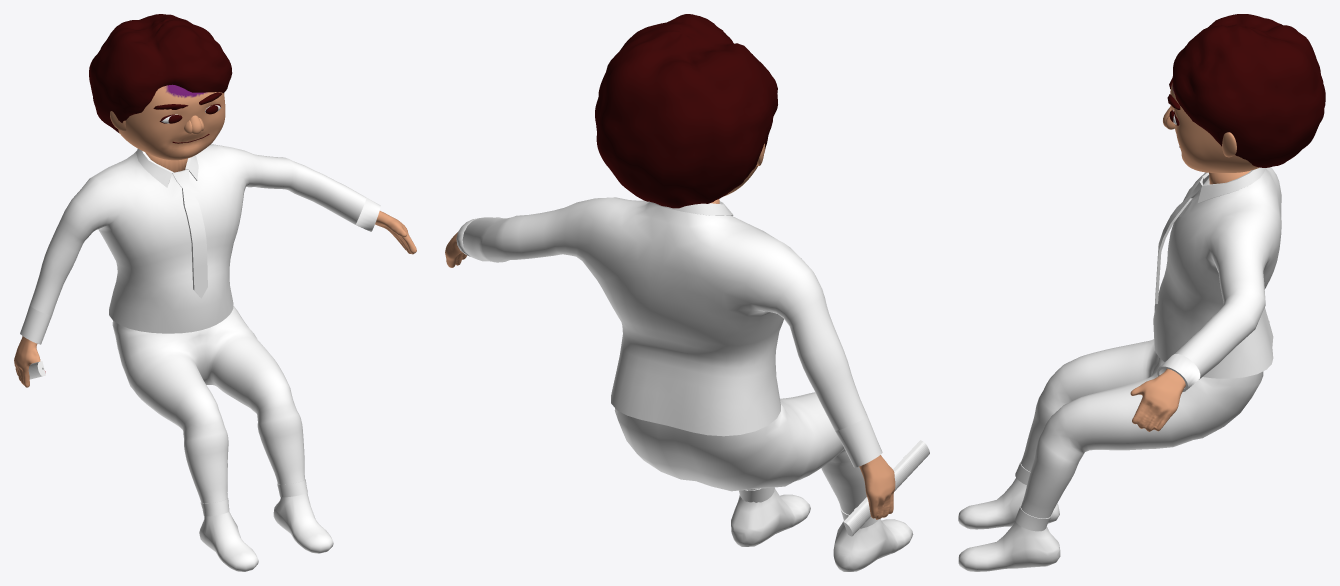
File: Uncle.fbx
The picture shows the model from 3 angles, left to right: view 1: azimuth 30°, elevation 25°; view 2: azimuth 150°, elevation 25°; view 3: azimuth 270°, elevation 25°; orthographic projection. The views are drawn at different scales.
Visible parts, largest first — view 1: Eye_R.001; view 2: Eye_R.001; view 3: Eye_R.001.
Part boxes in pixels (bbox=[...]): Eye_R.001: bbox=[14, 14, 416, 571]; Eye_R.001: bbox=[445, 14, 929, 571]; Eye_R.001: bbox=[958, 14, 1325, 571].
Bounding box in the file's own units: 92.18 × 111 × 70.38.
